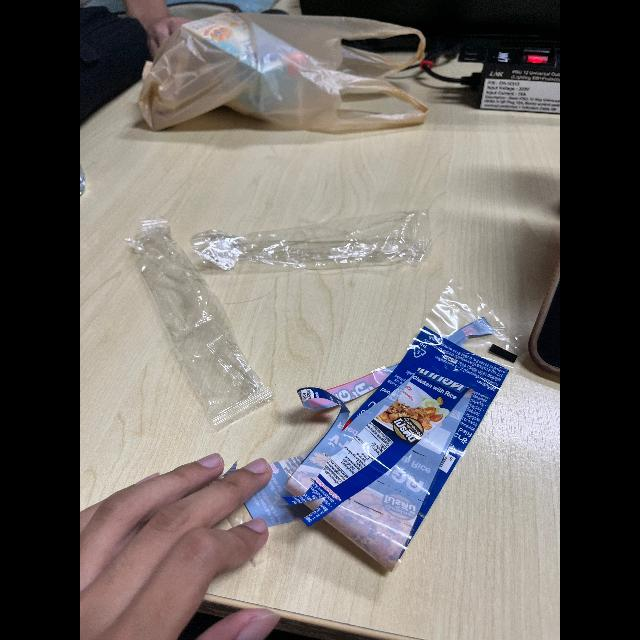scrap_plastic: (285, 279, 527, 579), (114, 215, 268, 430), (185, 210, 462, 286)
